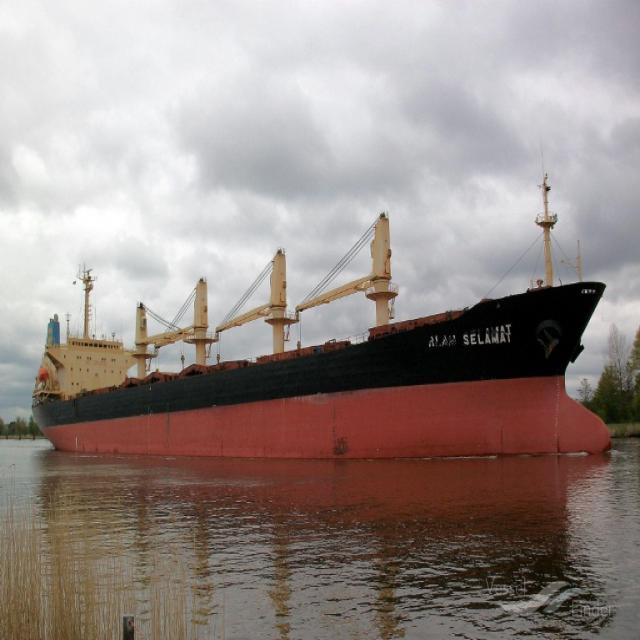OCR: (424, 324, 512, 349)
